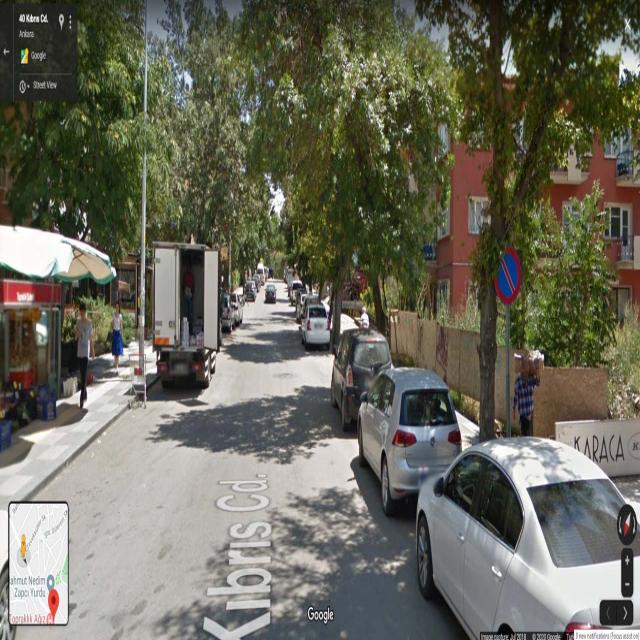parkyasak: (491, 247, 524, 304)
